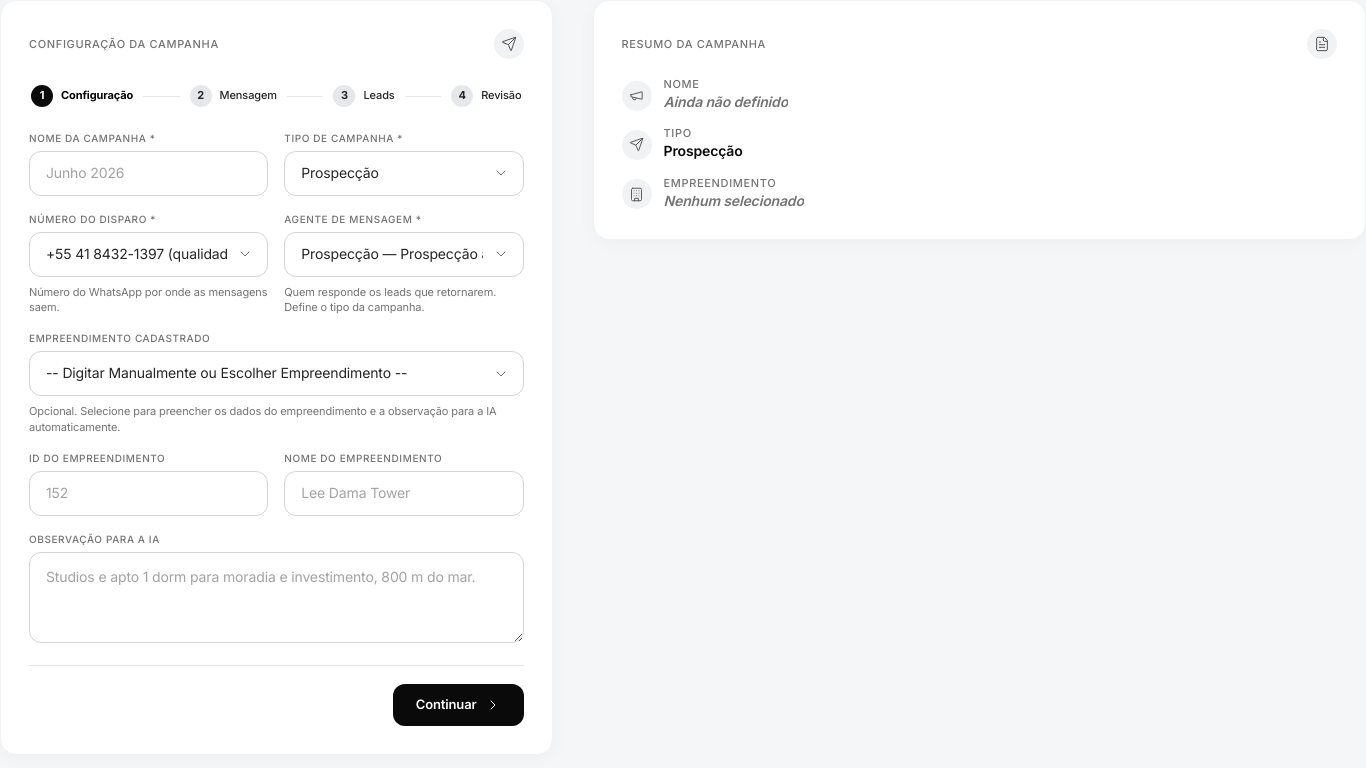
Scenario: DispatchForm › carrega empreendimentos ativos e preenche os campos ao selecionar
The width and height of the screenshot is (1366, 768).
Expected: the field with placeholder "152" is empty, [29,471,268,516]
Select "Lee Dama Tower (ID: 152)" in the dropdown labelled "Empreendimento cadastrado" at (276, 374), box [29,351,524,396]
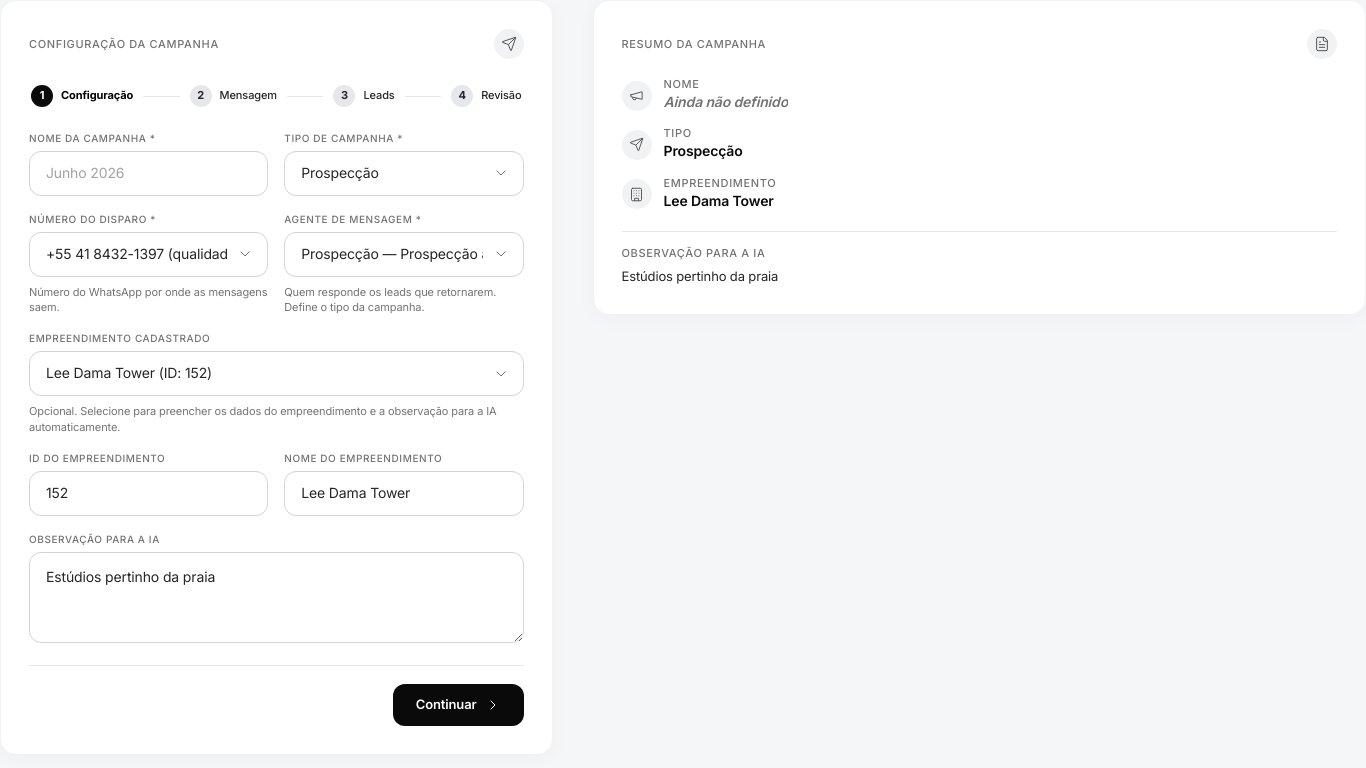
Expected: the field with placeholder "152" holds "152", [29,471,268,516]
Expected: the field with placeholder "Lee Dama Tower" holds "Lee Dama Tower", [284,471,524,516]
Expected: the text box with placeholder "Studios e apto 1 dorm para moradia" holds "Estúdios pertinho da praia", [29,552,524,643]
